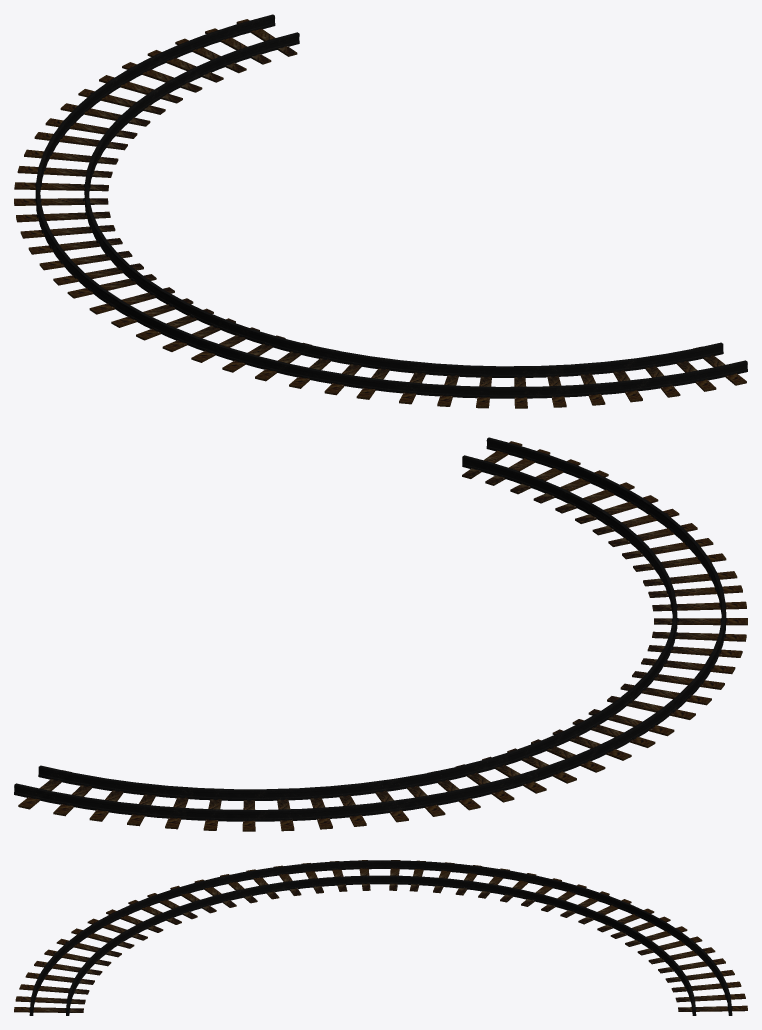
File: track_180.obj
3 views of the same model, one above another, from view 1: azimuth 30°, elevation 25°; view 2: azimuth 150°, elevation 25°; view 3: azimuth 270°, elevation 25° (orthographic). The views are drawn at different scales.
Parts seen in each view (by area): view 1: Track_01polySurface161_lambert1_0.3107, Track_01polySurface161_lambert1_0.3352, Track_01polySurface161_lambert1_0.3388, Track_01polySurface161_lambert1_0.3632, Track_01polySurface161_lambert1_0.2824, Track_01polySurface161_lambert1_0.3069, Track_01polySurface161_lambert1_0.3103, Track_01polySurface161_lambert1_0.3110, Track_01polySurface161_lambert1_0.2827, Track_01polySurface161_lambert1_0.3348, Track_01polySurface161_lambert1_0.3391, Track_01polySurface161_lambert1_0.3355; view 2: Track_01polySurface161_lambert1_0.2825, Track_01polySurface161_lambert1_0.3070, Track_01polySurface161_lambert1_0.2544, Track_01polySurface161_lambert1_0.2788, Track_01polySurface161_lambert1_0.3106, Track_01polySurface161_lambert1_0.3351, Track_01polySurface161_lambert1_0.2821, Track_01polySurface161_lambert1_0.3110, Track_01polySurface161_lambert1_0.2827, Track_01polySurface161_lambert1_0.3066, Track_01polySurface161_lambert1_0.2547, Track_01polySurface161_lambert1_0.3072; view 3: Track_01polySurface161_lambert1_0.2543, Track_01polySurface161_lambert1_0.3387, Track_01polySurface161_lambert1_0.2787, Track_01polySurface161_lambert1_0.3631, Track_01polySurface161_lambert1_0.3106, Track_01polySurface161_lambert1_0.2824, Track_01polySurface161_lambert1_0.3351, Track_01polySurface161_lambert1_0.3069, Track_01polySurface161_lambert1_0.2547, Track_01polySurface161_lambert1_0.3391, Track_01polySurface161_lambert1_0.2539, Track_01polySurface161_lambert1_0.3383 (+12 smaller).
Boxes of the visible parts, left/top/right/bottom form: Track_01polySurface161_lambert1_0.3107: left=387, top=361, right=747, bottom=395; Track_01polySurface161_lambert1_0.3352: left=400, top=344, right=723, bottom=374; Track_01polySurface161_lambert1_0.3388: left=99, top=289, right=387, bottom=388; Track_01polySurface161_lambert1_0.3632: left=142, top=278, right=400, bottom=368; Track_01polySurface161_lambert1_0.2824: left=55, top=16, right=274, bottom=142; Track_01polySurface161_lambert1_0.3069: left=103, top=33, right=299, bottom=148; Track_01polySurface161_lambert1_0.3103: left=387, top=370, right=747, bottom=398; Track_01polySurface161_lambert1_0.3110: left=388, top=360, right=746, bottom=388; Track_01polySurface161_lambert1_0.2827: left=53, top=14, right=274, bottom=135; Track_01polySurface161_lambert1_0.3348: left=400, top=352, right=723, bottom=377; Track_01polySurface161_lambert1_0.3391: left=100, top=287, right=388, bottom=381; Track_01polySurface161_lambert1_0.3355: left=400, top=342, right=722, bottom=367; Track_01polySurface161_lambert1_0.2825: left=14, top=784, right=373, bottom=818; Track_01polySurface161_lambert1_0.3070: left=38, top=767, right=361, bottom=797; Track_01polySurface161_lambert1_0.2544: left=374, top=711, right=662, bottom=811; Track_01polySurface161_lambert1_0.2788: left=361, top=701, right=620, bottom=791; Track_01polySurface161_lambert1_0.3106: left=486, top=439, right=706, bottom=565; Track_01polySurface161_lambert1_0.3351: left=462, top=456, right=658, bottom=571; Track_01polySurface161_lambert1_0.2821: left=14, top=793, right=374, bottom=821; Track_01polySurface161_lambert1_0.3110: left=487, top=437, right=708, bottom=559; Track_01polySurface161_lambert1_0.2827: left=15, top=783, right=373, bottom=811; Track_01polySurface161_lambert1_0.3066: left=38, top=775, right=361, bottom=800; Track_01polySurface161_lambert1_0.2547: left=373, top=710, right=661, bottom=804; Track_01polySurface161_lambert1_0.3072: left=39, top=765, right=360, bottom=790; Track_01polySurface161_lambert1_0.2543: left=380, top=861, right=627, bottom=909; Track_01polySurface161_lambert1_0.3387: left=134, top=861, right=380, bottom=909; Track_01polySurface161_lambert1_0.2787: left=380, top=876, right=601, bottom=920; Track_01polySurface161_lambert1_0.3631: left=160, top=876, right=380, bottom=920; Track_01polySurface161_lambert1_0.3106: left=33, top=904, right=134, bottom=1009; Track_01polySurface161_lambert1_0.2824: left=627, top=904, right=729, bottom=1012; Track_01polySurface161_lambert1_0.3351: left=69, top=915, right=160, bottom=1010; Track_01polySurface161_lambert1_0.3069: left=601, top=915, right=692, bottom=1010; Track_01polySurface161_lambert1_0.2547: left=380, top=860, right=628, bottom=904; Track_01polySurface161_lambert1_0.3391: left=133, top=860, right=380, bottom=903; Track_01polySurface161_lambert1_0.2539: left=380, top=867, right=626, bottom=911; Track_01polySurface161_lambert1_0.3383: left=135, top=867, right=380, bottom=911.
Size of the model in its own units: 211 by 5.12 by 422.
Materials: 1 (1 with a texture image).
